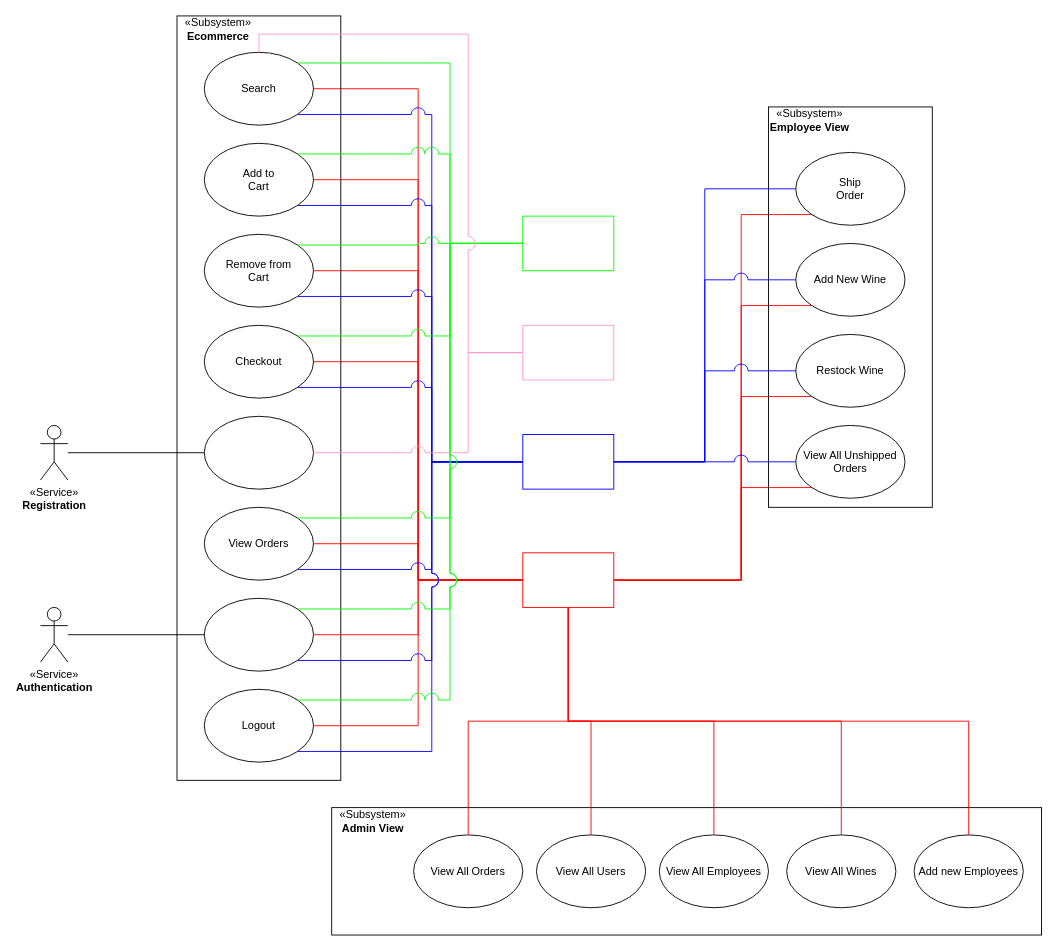
Image size: 1057x951. Some labels were removed from this diagram. The centre of each missing label's shape, as x and y in pixels:
"Login" belongs at point (258, 634).
"Register" belongs at point (258, 452).
"«actor» Admin" belongs at point (568, 579).
"«actor» Employee" belongs at point (568, 461).
"«actor» Guest" belongs at point (568, 352).
"«actor» User" belongs at point (568, 243).
